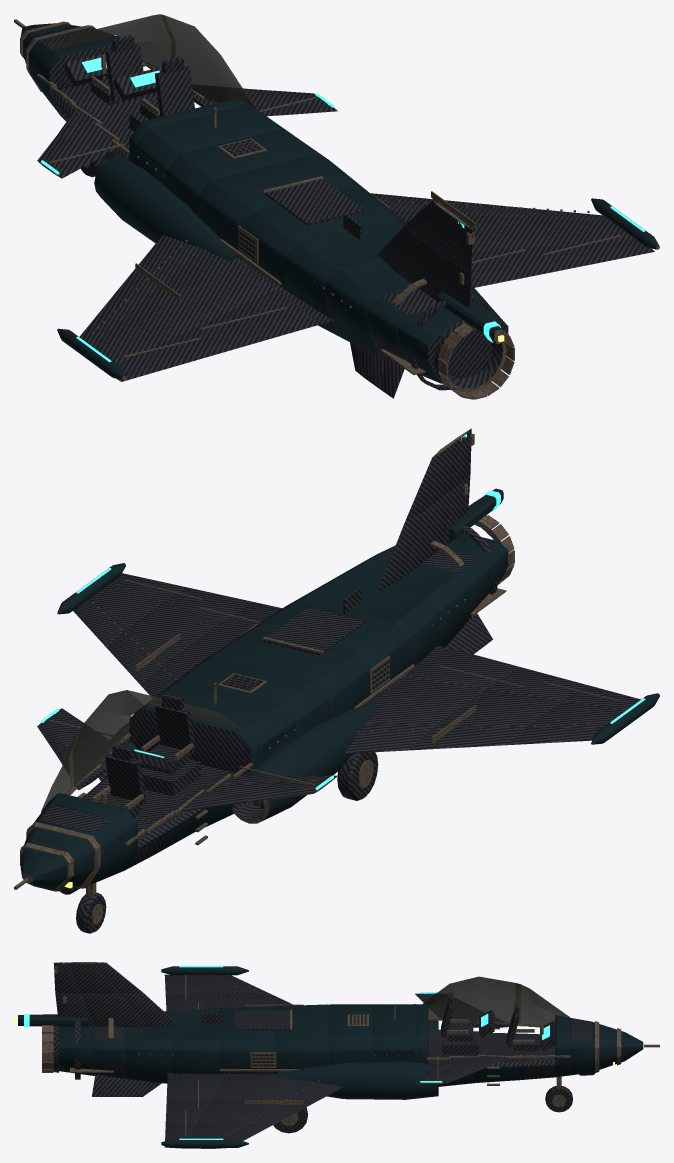
The model's file is basement_v1.glb.
The picture shows the model from 3 angles, top to bottom: view 1: azimuth 30°, elevation 25°; view 2: azimuth 150°, elevation 25°; view 3: azimuth 270°, elevation 25°; orthographic projection. The views are drawn at different scales.
Visible parts, largest first — view 1: basement_core, basement_wing_l, basement_wing_r, basement_canard_l, basement_canard_r; view 2: basement_core, basement_wing_l, basement_wing_r, basement_canard_l, basement_canard_r; view 3: basement_core, basement_wing_r, basement_wing_l, basement_canard_r, basement_canard_l.
Part boxes in pixels (x1=…): basement_core: x1=14, y1=14, x2=514, y2=399; basement_wing_l: x1=57, y1=235, x2=320, y2=381; basement_wing_r: x1=371, y1=191, x2=659, y2=287; basement_canard_l: x1=37, y1=105, x2=128, y2=178; basement_canard_r: x1=193, y1=88, x2=337, y2=116; basement_core: x1=14, y1=428, x2=514, y2=933; basement_wing_l: x1=345, y1=649, x2=659, y2=753; basement_wing_r: x1=57, y1=563, x2=281, y2=696; basement_canard_l: x1=170, y1=766, x2=337, y2=812; basement_canard_r: x1=37, y1=708, x2=125, y2=790; basement_core: x1=14, y1=962, x2=659, y2=1133; basement_wing_r: x1=161, y1=1074, x2=343, y2=1148; basement_wing_l: x1=161, y1=965, x2=303, y2=1010; basement_canard_r: x1=415, y1=1054, x2=510, y2=1083; basement_canard_l: x1=415, y1=992, x2=509, y2=1027.
Bounding box in the file's own units: 5.72 × 2.25 × 8.85.
6 materials, 2 textured.
